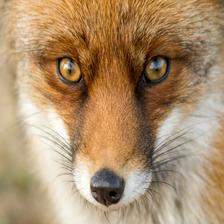fox: (0, 2, 224, 224)
